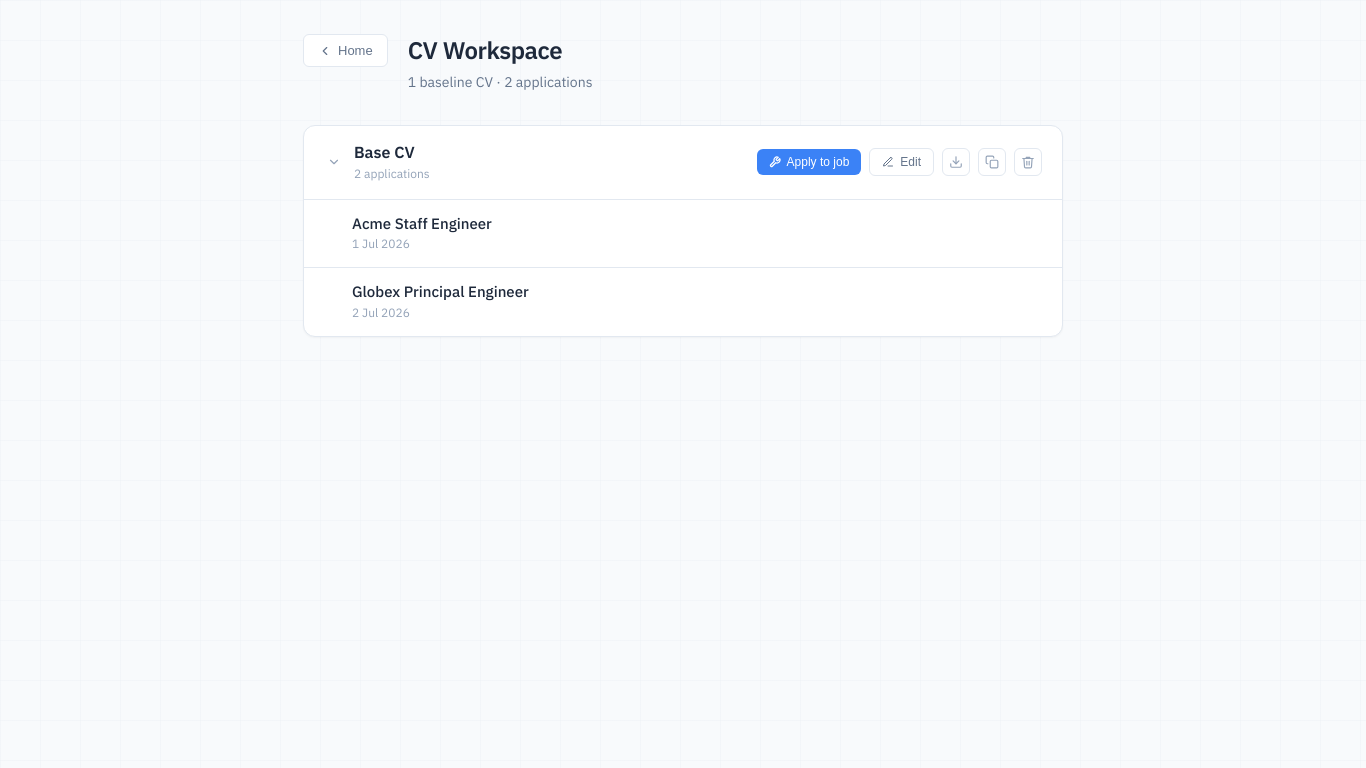
Test: Dashboard delete confirmation and load failure feedback › (c) Cancel leaves the base CV untouched
Expected: the text "Base CV" is shown, [354, 142, 415, 162]
Click the button titled "Delete baseline CV": (1028, 162) [1014, 148, 1042, 176]
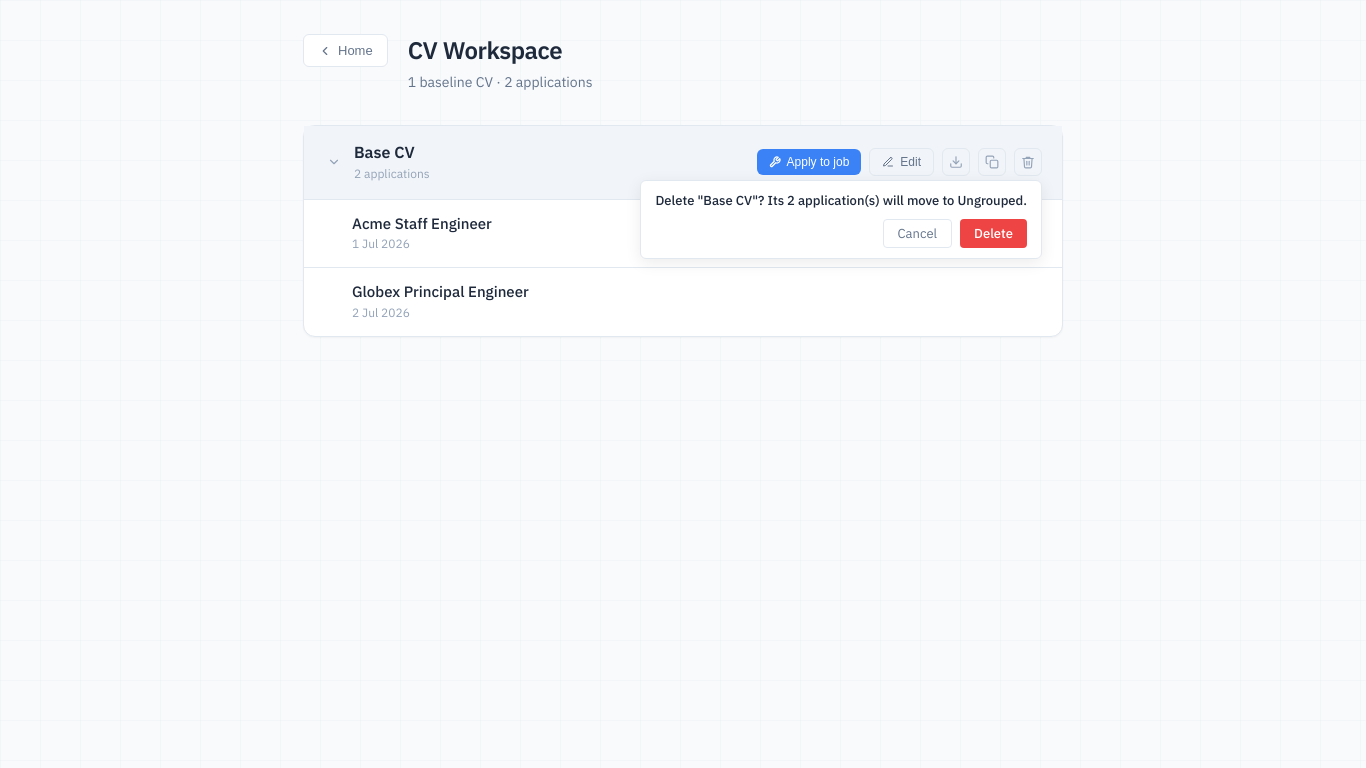
Click the button "Cancel": (917, 233) [882, 219, 952, 248]
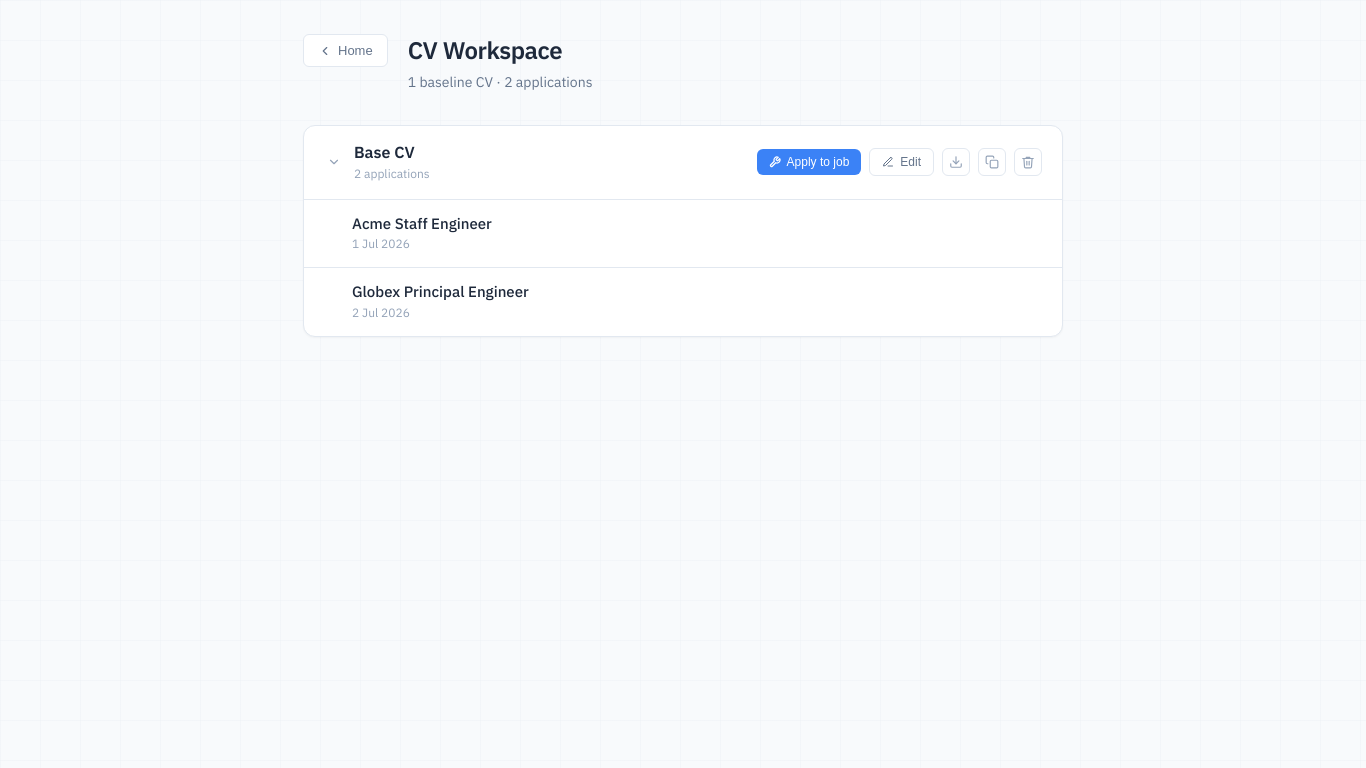
Expected: the dialog is gone
